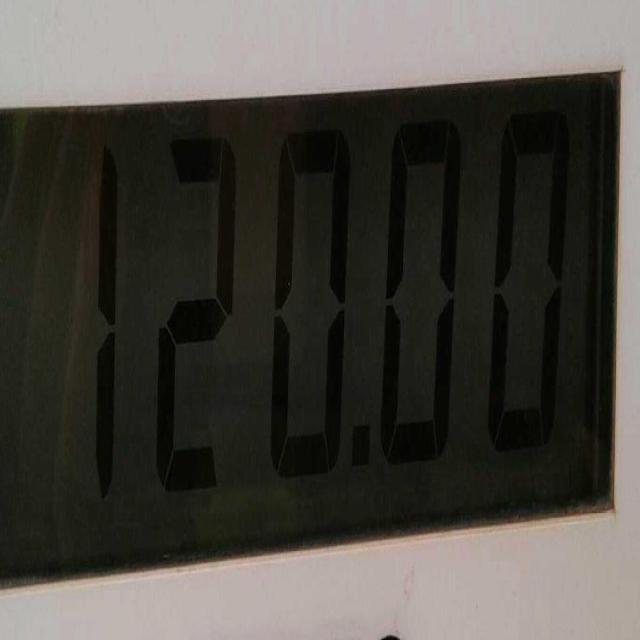.: (352, 413, 372, 481)
0: (370, 124, 468, 471), (263, 126, 355, 492), (486, 107, 577, 464)
1: (80, 122, 136, 518)
2: (156, 121, 240, 513)
